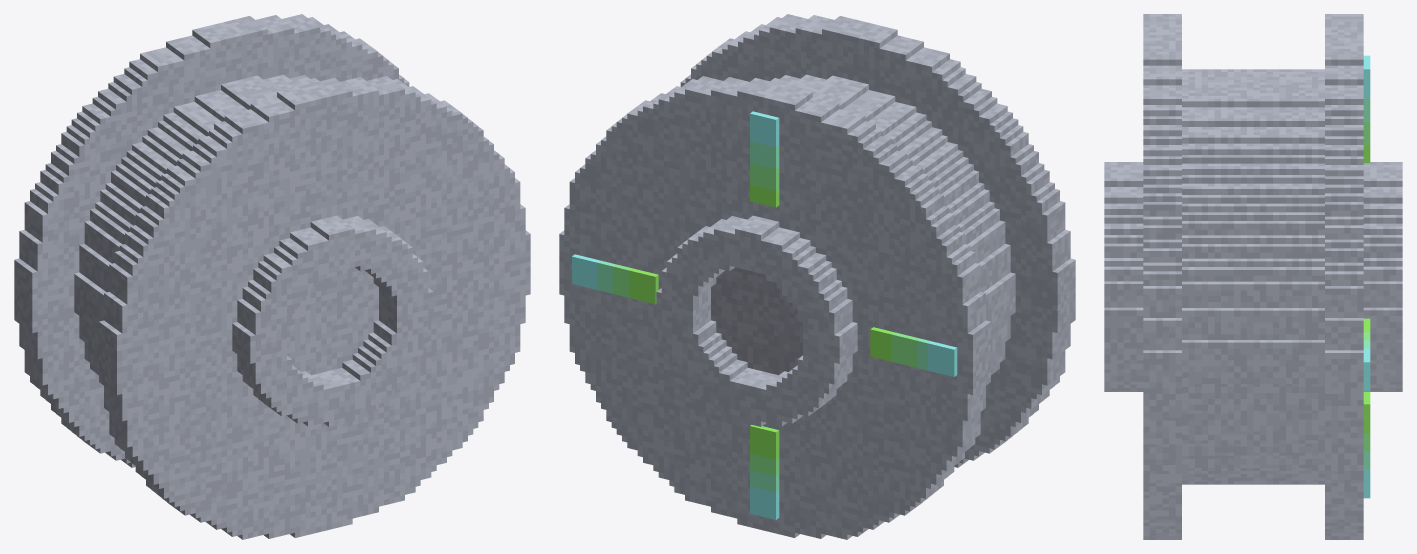
Rendered from wheel.FBX.
3 views of the same model, side by side, from view 1: azimuth 30°, elevation 25°; view 2: azimuth 150°, elevation 25°; view 3: azimuth 270°, elevation 25° (orthographic). The views are drawn at different scales.
Parts seen in each view (by area): view 1: default031; view 2: default031; view 3: default031.
Part boxes in pixels (x1,y1,x2,y2): default031: (14,14,530,539); default031: (559,14,1075,539); default031: (1104,14,1402,539).
Bounding box in the file's own units: 1032 × 1032 × 601.
